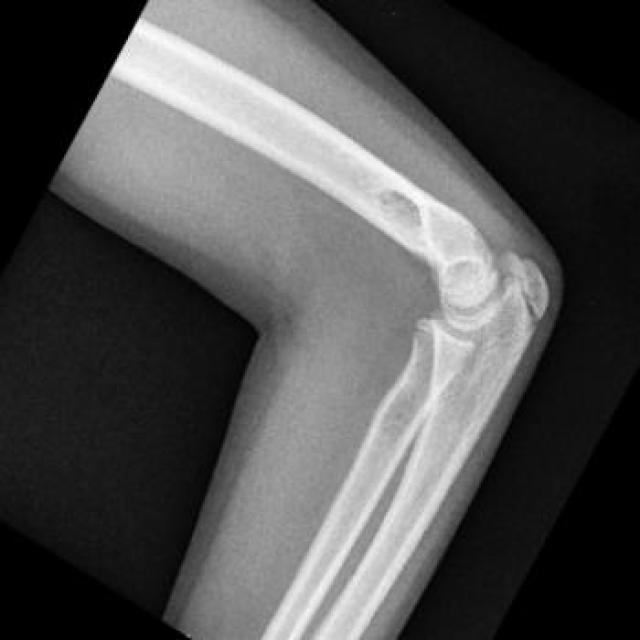Fracture: (510, 247, 556, 331)
